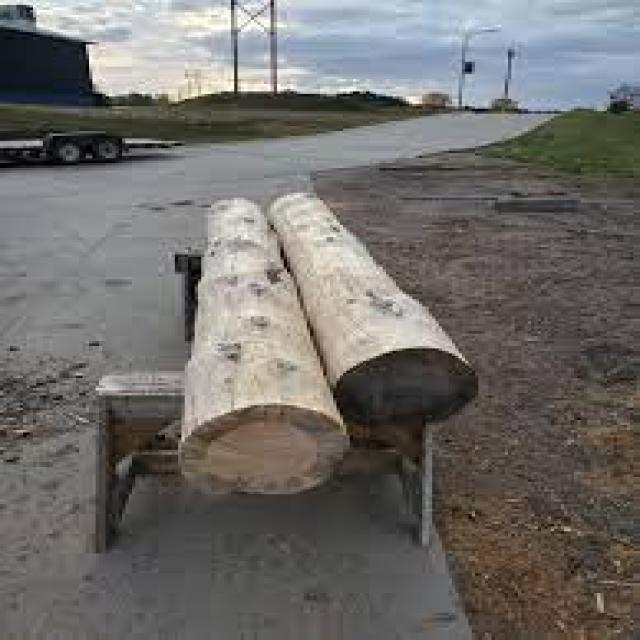Woods: (158, 190, 478, 499)
